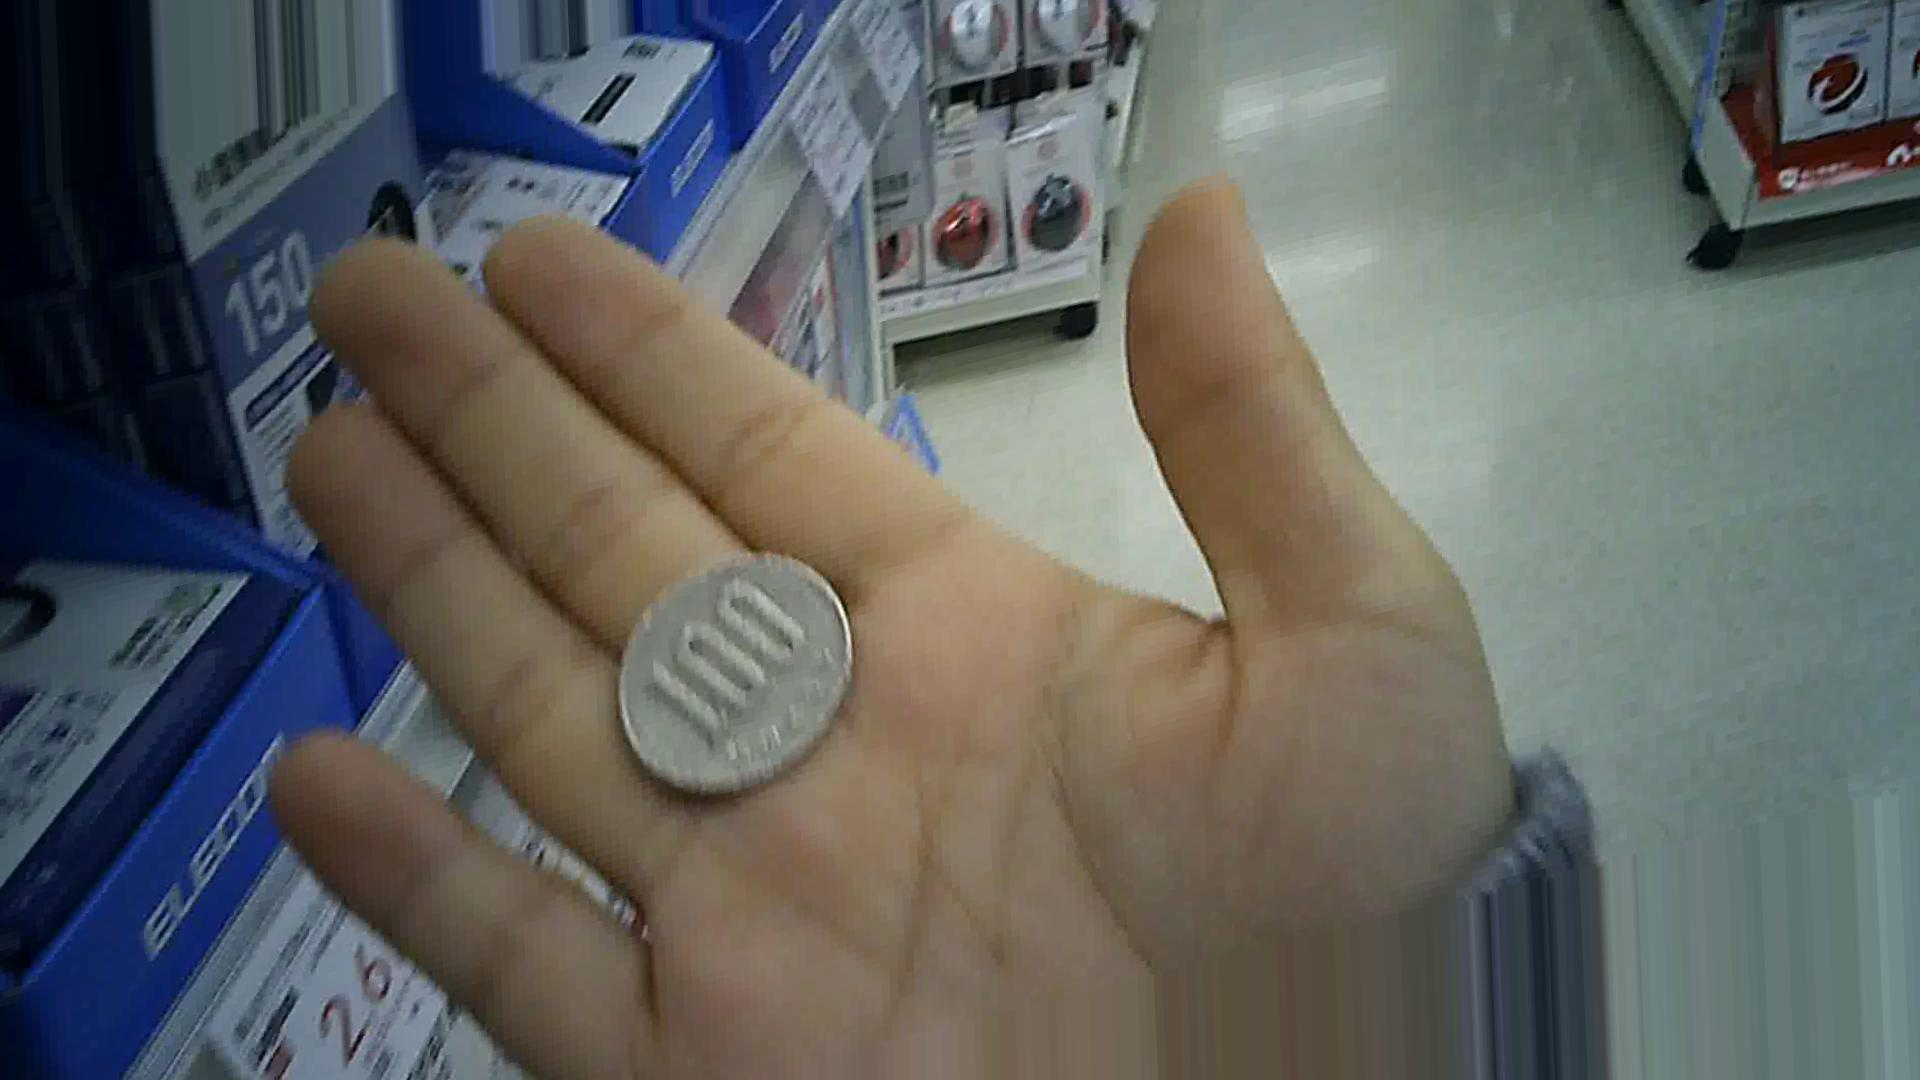100 Yen: (622, 551, 851, 775)
